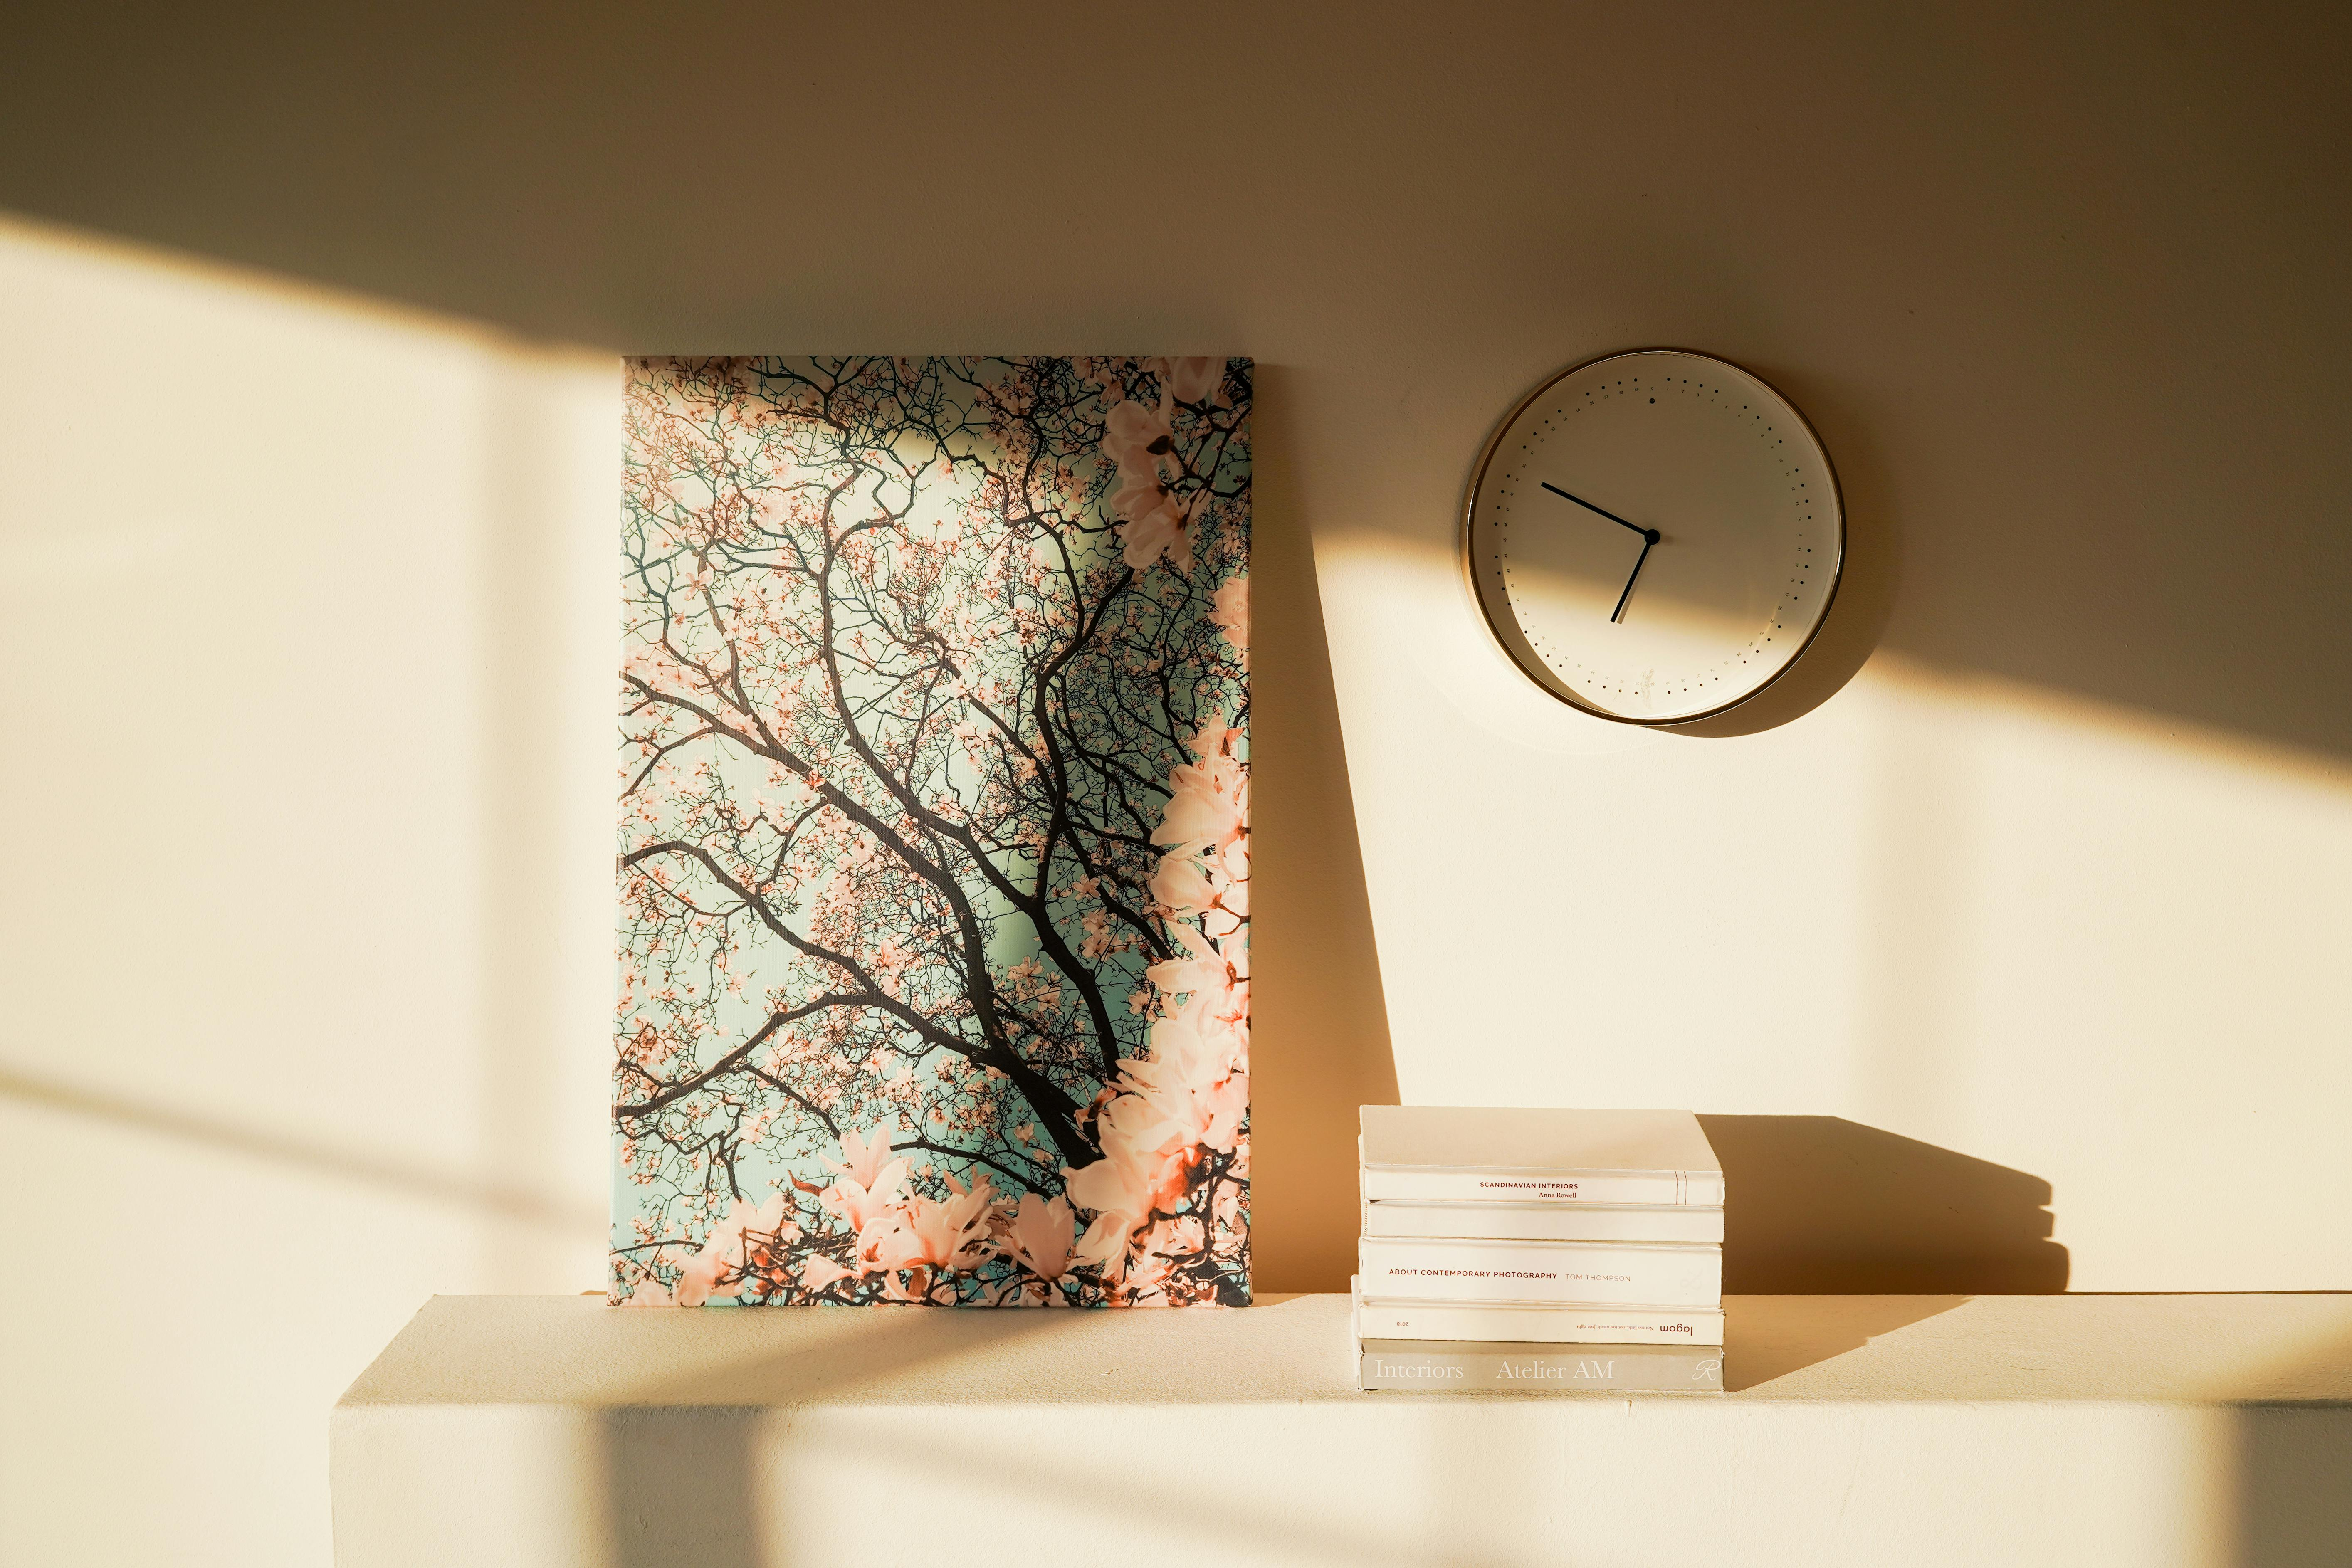clock: (1398, 304, 1965, 801)
